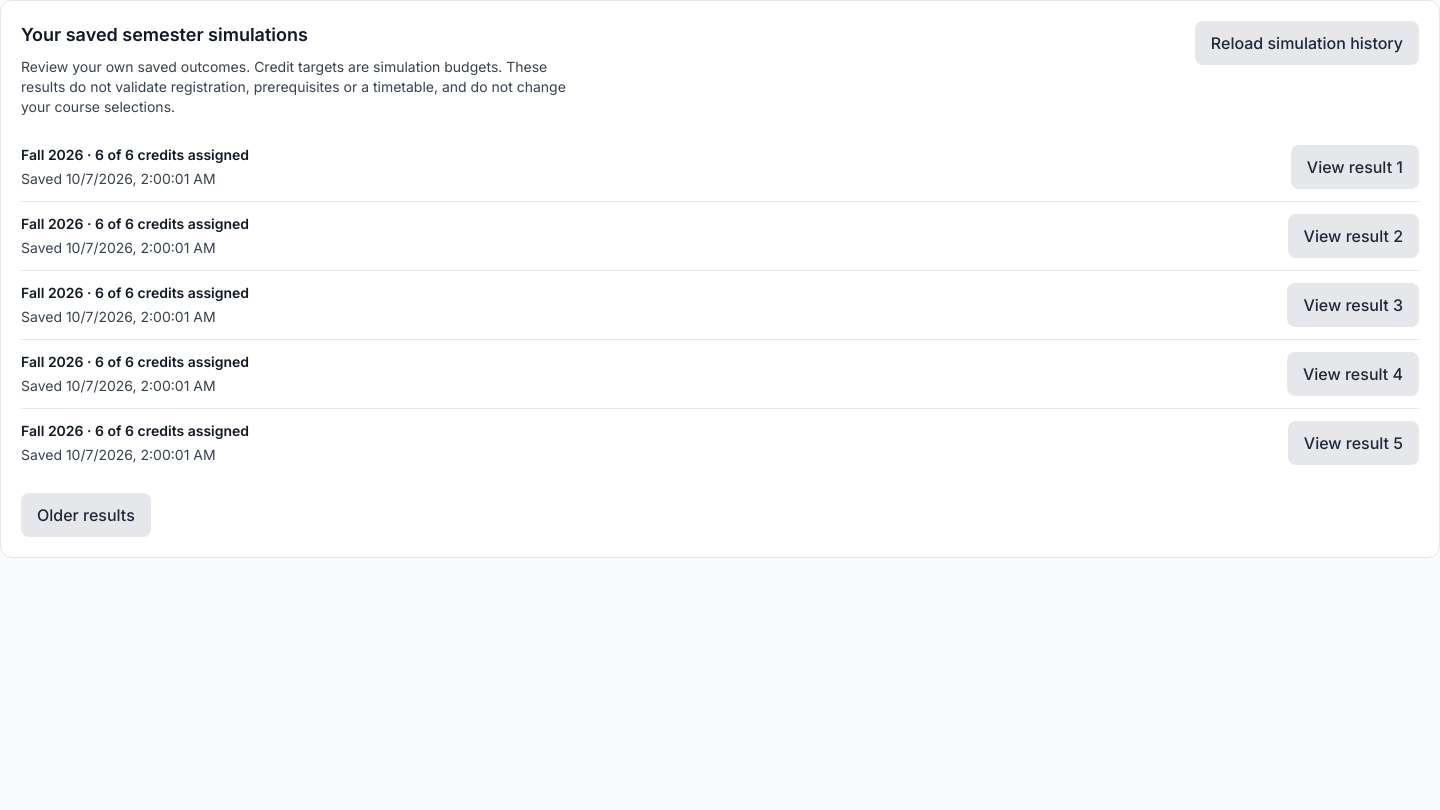
Scenario: current-account saved semester simulations › distinguishes an empty continuation from having no saved history at all
The image size is (1440, 810).
Expected: the button "Reload simulation history" is enabled, left=1195, top=21, right=1419, bottom=65
Click the button "Older results" at (86, 515), box left=21, top=493, right=151, bottom=537
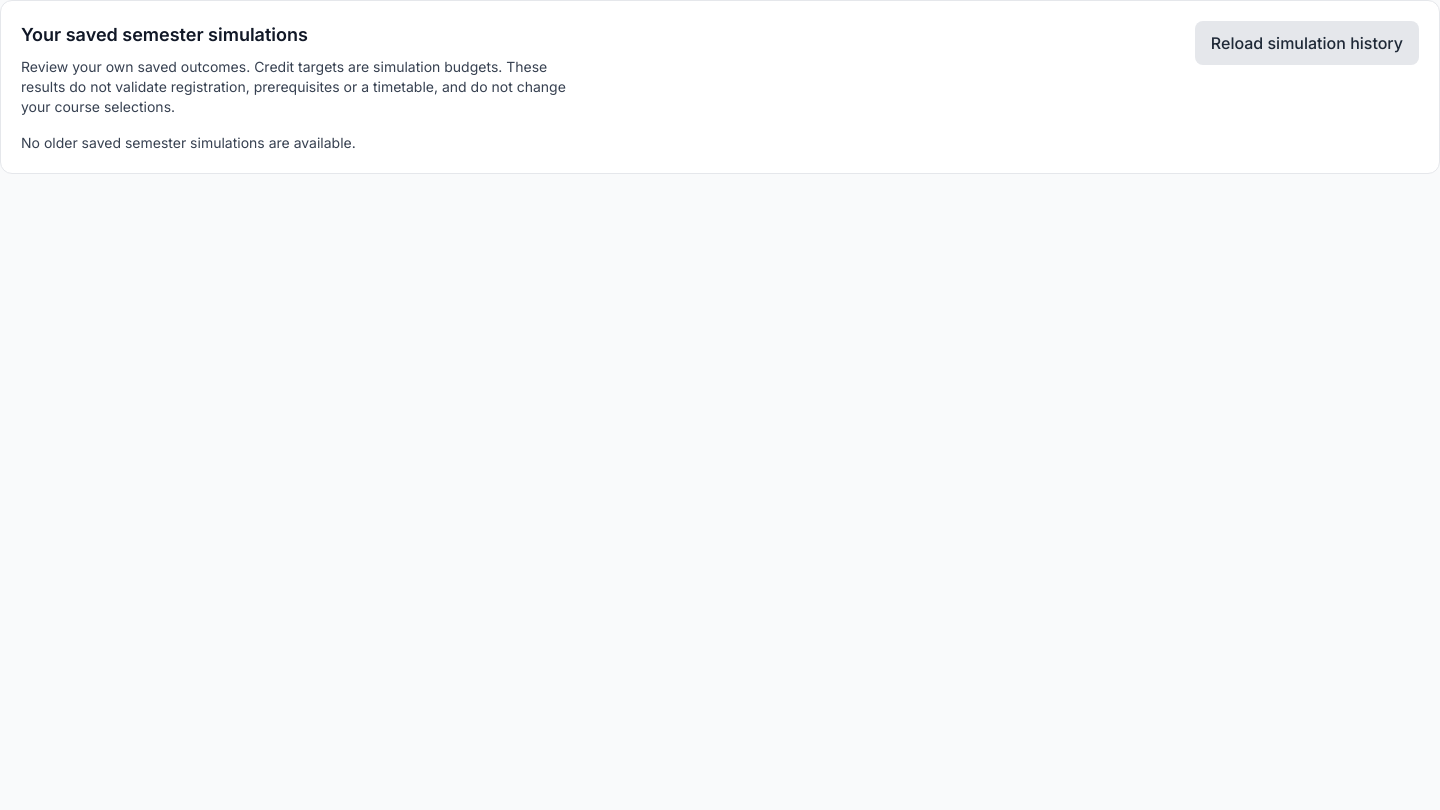
Expected: the button "Reload simulation history" is enabled, left=1195, top=21, right=1419, bottom=65
Expected: the text "No older saved semester simulations are available." is shown, left=21, top=134, right=356, bottom=151
Expected: the button "Older results" is gone
